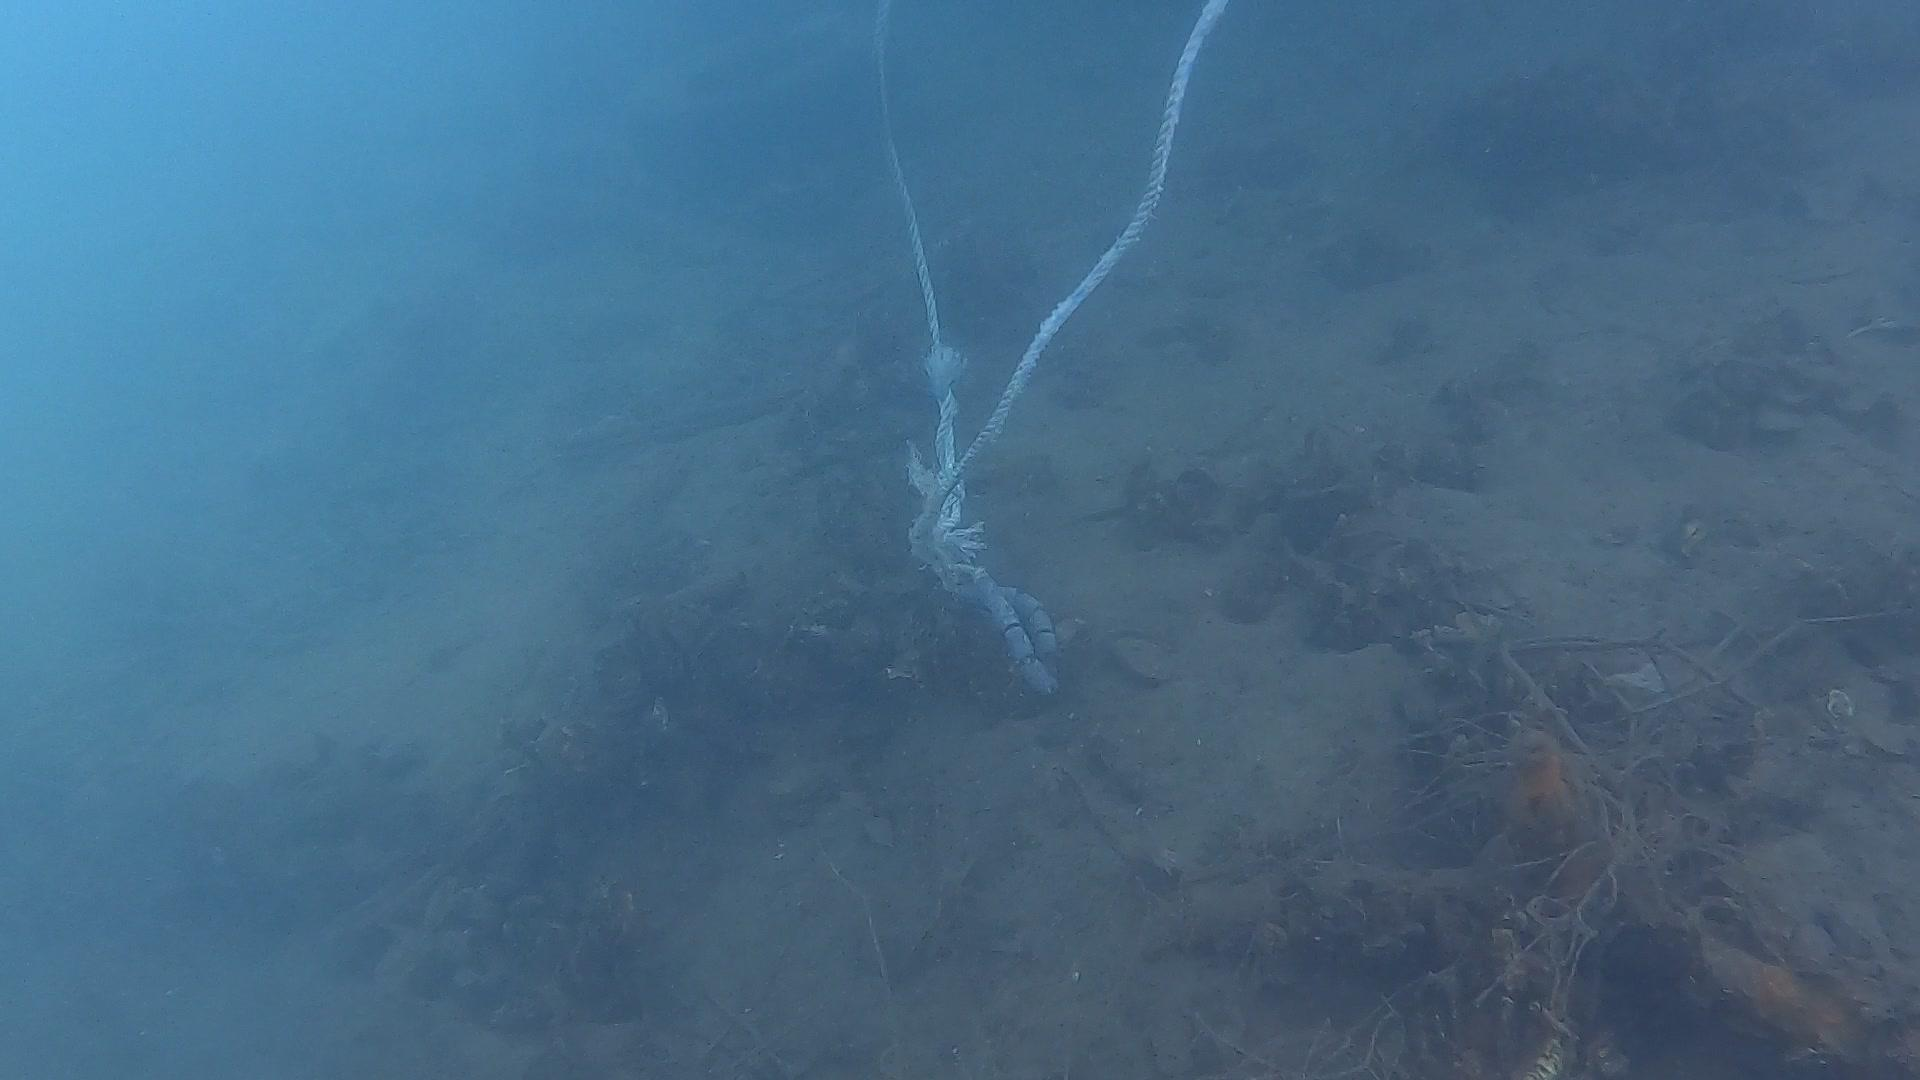bundle of ropes: (872, 0, 1229, 524)
